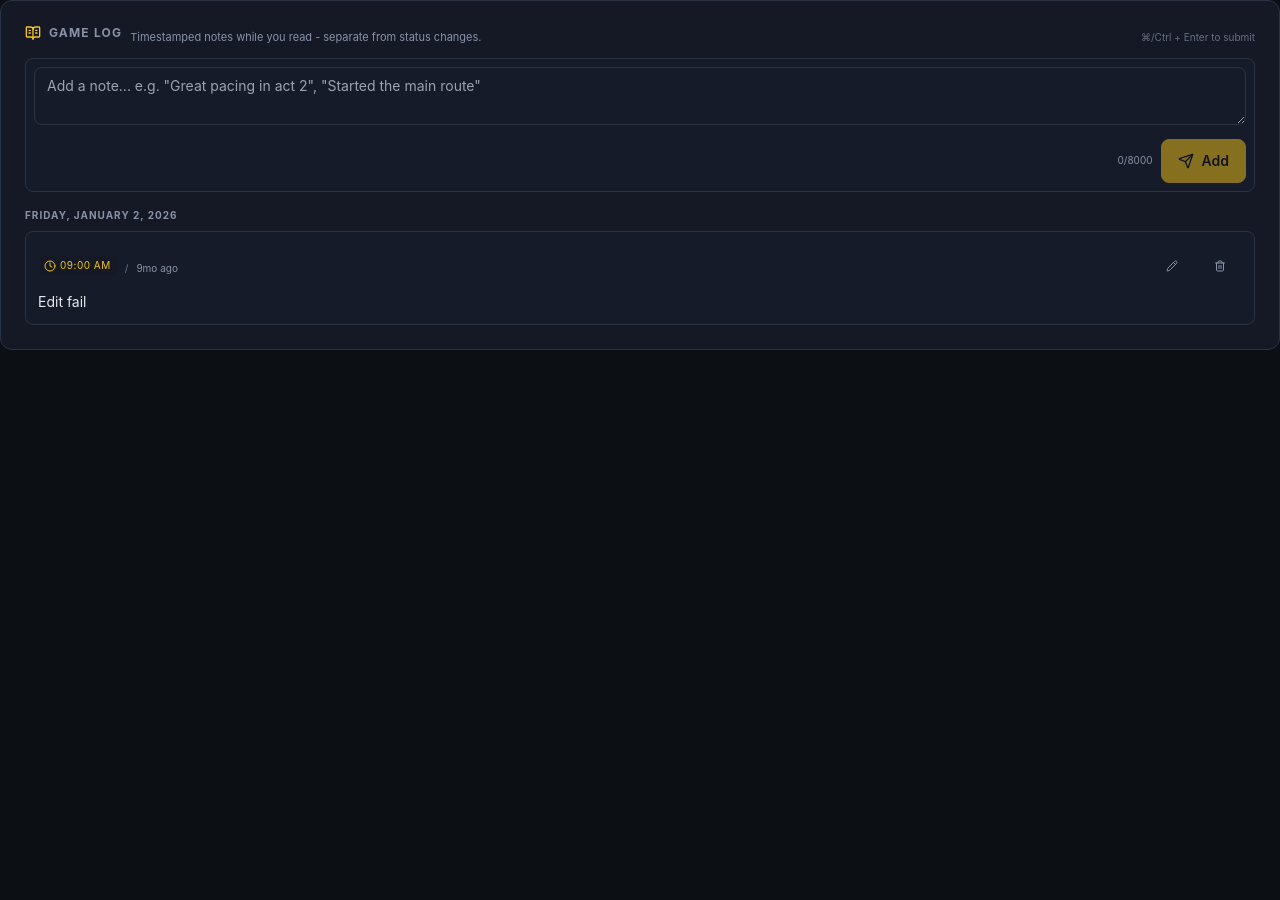
Test case: GameLog branches › surfaces an error toast when the edit PATCH fails
Click the button named "Edit" at (1172, 266), box [1150, 244, 1194, 288]
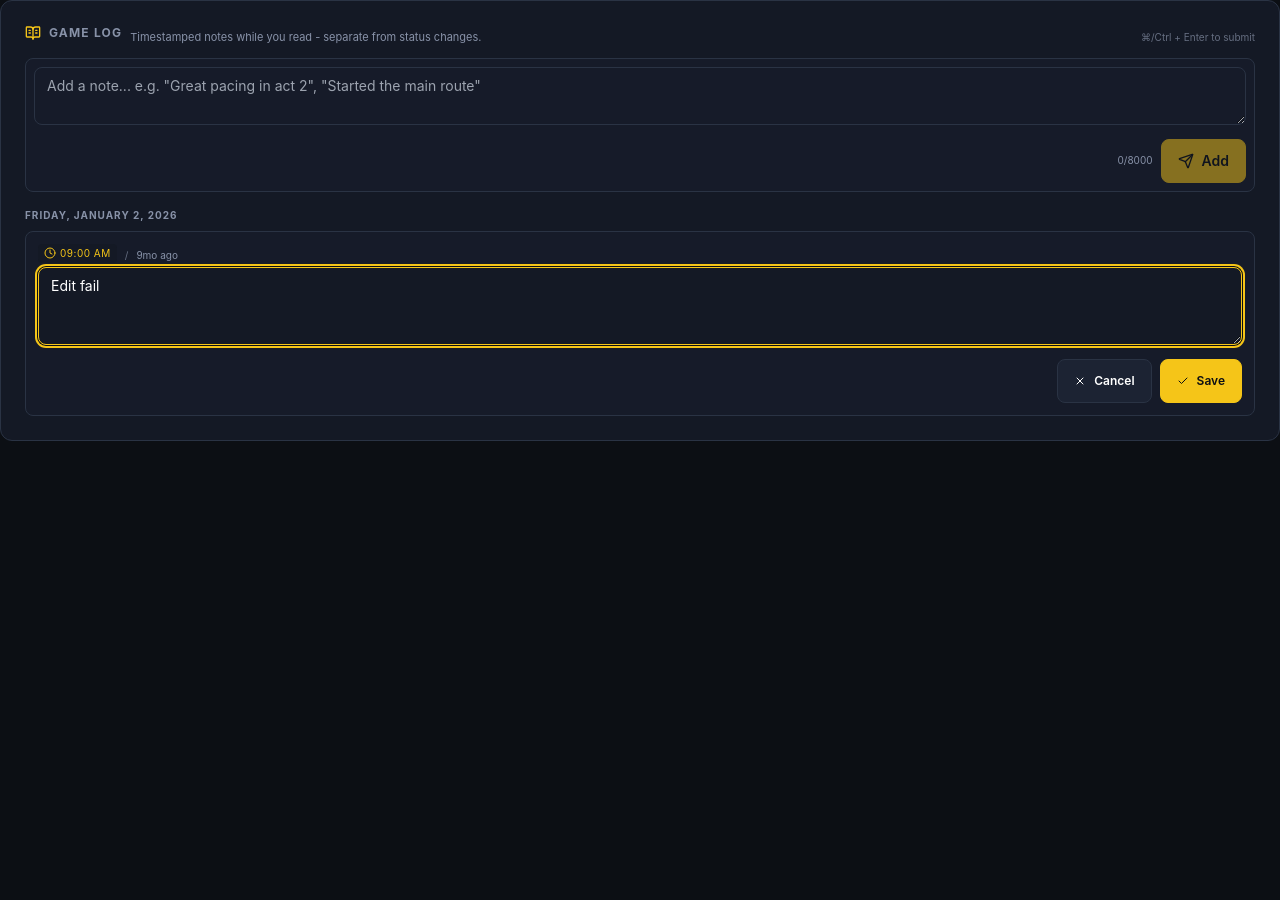
Replace the text in the text box showing "Edit fail" with "Changed" at (640, 306), box [38, 267, 1242, 345]
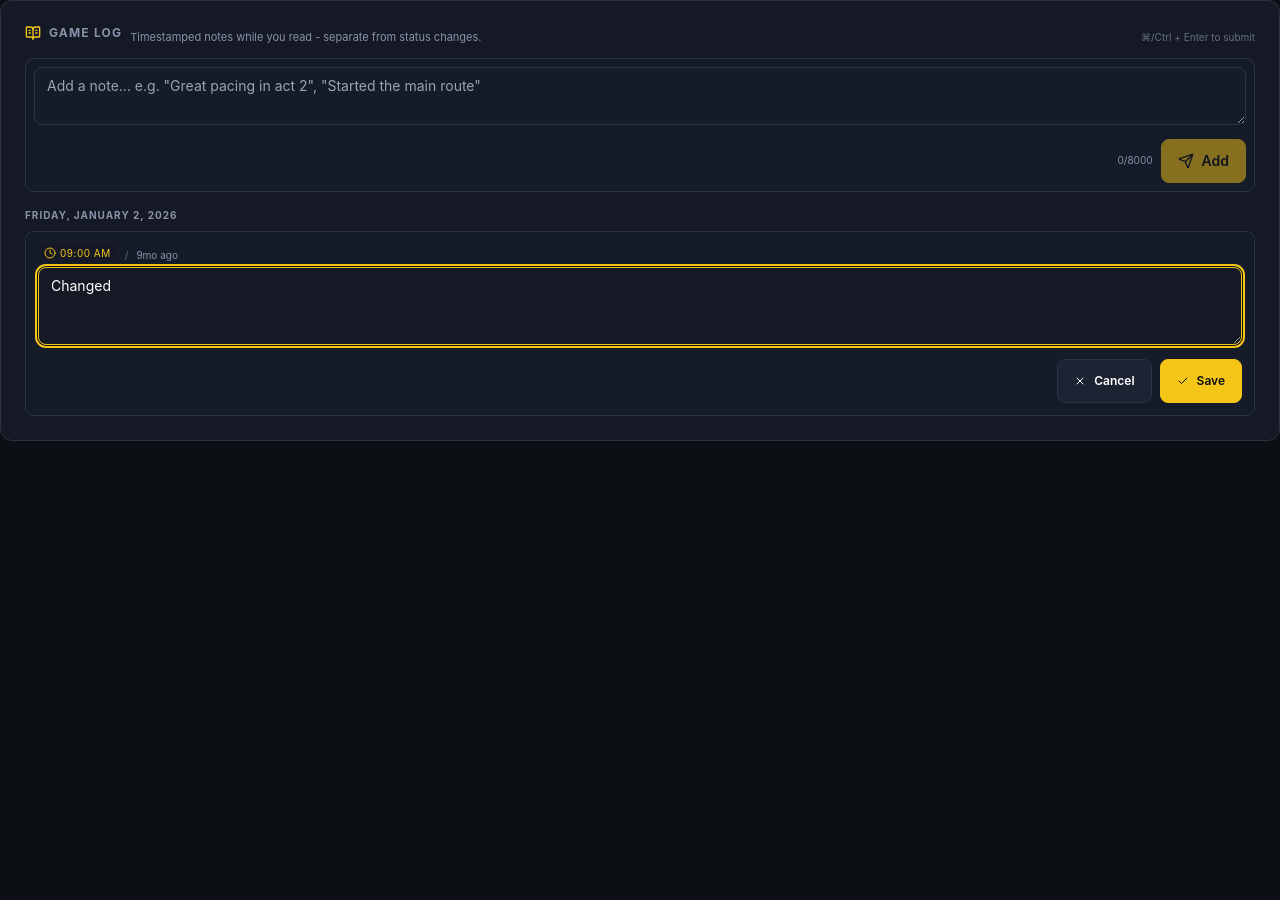
Click the button "Save" at (1201, 381), box [1160, 359, 1242, 403]
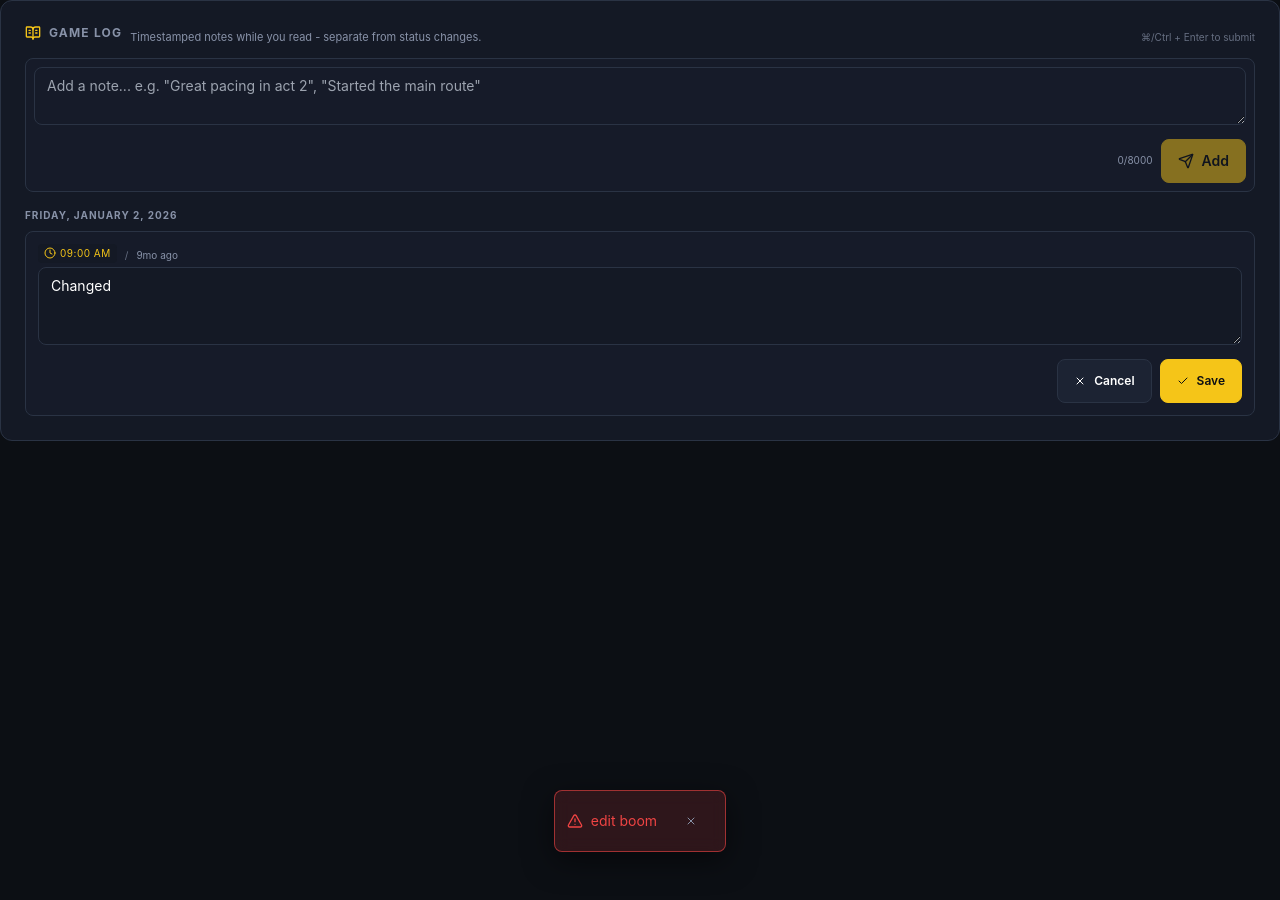
Expected: the text "edit boom" is shown, [591, 811, 657, 831]
